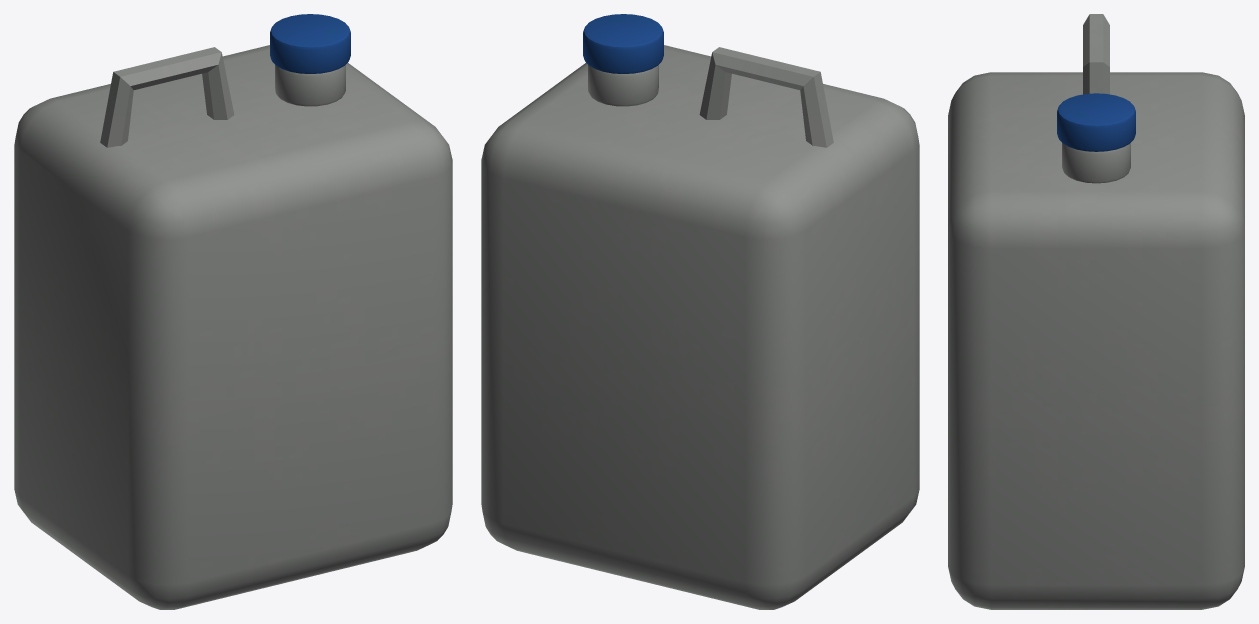
File: EST-ADT-002.glb
The picture shows the model from 3 angles, left to right: view 1: azimuth 30°, elevation 25°; view 2: azimuth 150°, elevation 25°; view 3: azimuth 270°, elevation 25°; orthographic projection. The views are drawn at different scales.
Parts seen in each view (by area): view 1: EST-ADT-002_corpo, EST-ADT-002_alca, EST-ADT-002_tampa, EST-ADT-002_gargalo; view 2: EST-ADT-002_corpo, EST-ADT-002_alca, EST-ADT-002_tampa, EST-ADT-002_gargalo; view 3: EST-ADT-002_corpo, EST-ADT-002_tampa, EST-ADT-002_gargalo, EST-ADT-002_alca.
Boxes of the visible parts, left/top/right/bottom form: EST-ADT-002_corpo: left=14, top=45, right=452, bottom=609; EST-ADT-002_alca: left=100, top=47, right=234, bottom=147; EST-ADT-002_tampa: left=270, top=14, right=350, bottom=73; EST-ADT-002_gargalo: left=275, top=65, right=345, bottom=106; EST-ADT-002_corpo: left=481, top=45, right=919, bottom=609; EST-ADT-002_alca: left=699, top=47, right=833, bottom=147; EST-ADT-002_tampa: left=583, top=14, right=663, bottom=73; EST-ADT-002_gargalo: left=588, top=65, right=658, bottom=106; EST-ADT-002_corpo: left=948, top=72, right=1244, bottom=609; EST-ADT-002_tampa: left=1057, top=93, right=1135, bottom=151; EST-ADT-002_gargalo: left=1062, top=143, right=1130, bottom=183; EST-ADT-002_alca: left=1083, top=14, right=1109, bottom=94.
Bounding box in the file's own units: 0.29 × 0.4273 × 0.24.
2 materials, 2 textured.
